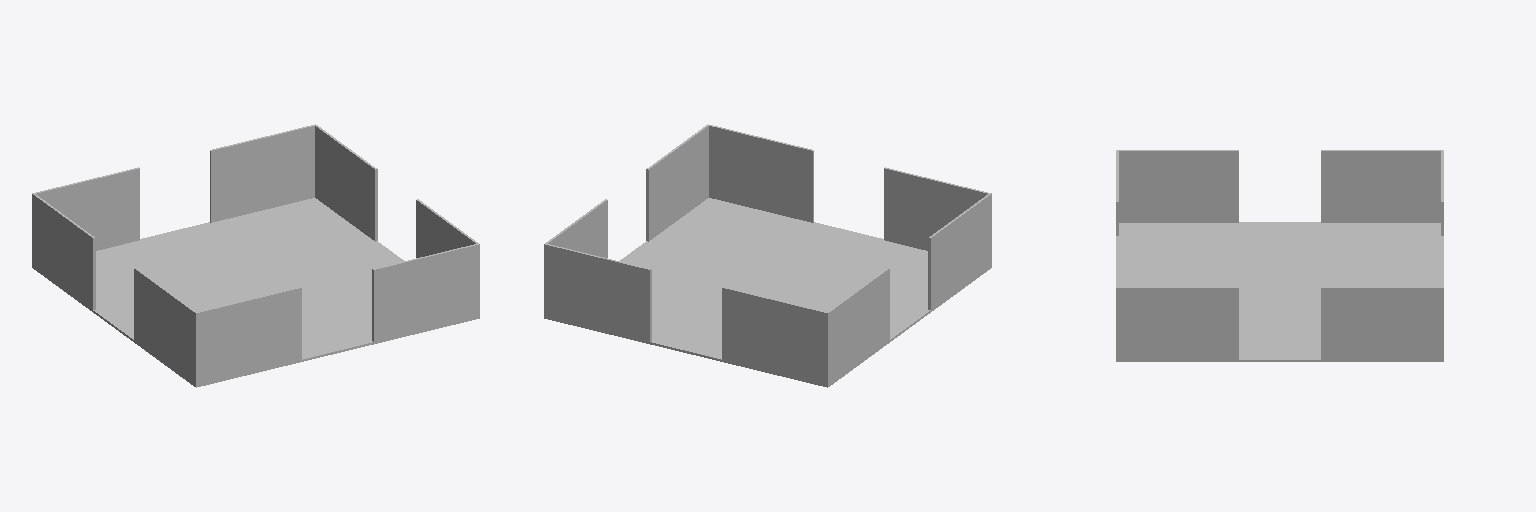
The model's file is room.obj.
3 renders of one model, left to right at view 1: azimuth 30°, elevation 25°; view 2: azimuth 150°, elevation 25°; view 3: azimuth 270°, elevation 25°, orthographic.
Visible parts, largest first — view 1: object 1; view 2: object 1; view 3: object 1.
Boxes of the visible parts, <box> form: object 1: <box>32,124,479,387</box>; object 1: <box>544,124,991,387</box>; object 1: <box>1116,150,1443,361</box>.
Bounding box in the file's own units: 12.8 × 3.2 × 12.8.